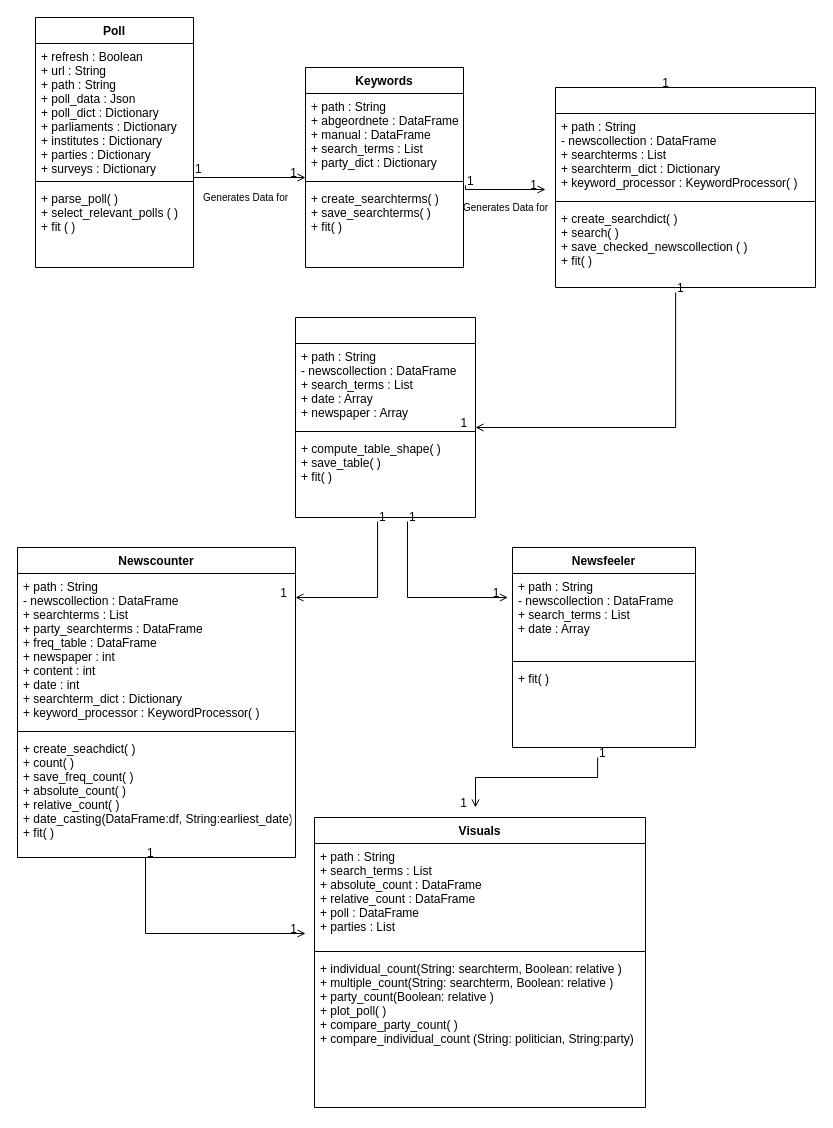
Some shapes in this 833 by 1128 pixel diagram are drawn without their labels. Here are the shapes that lost their labels. From the top down, the box of each, then its label:
(554, 86, 816, 288): Relevance
(294, 316, 476, 518): Frequency_Table
